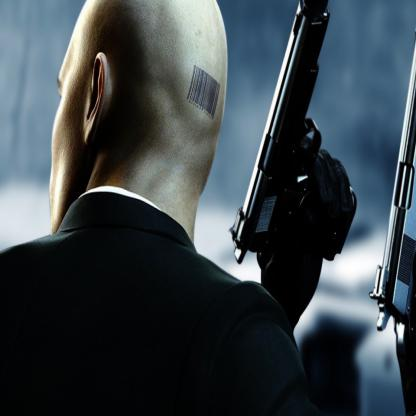gun: (225, 0, 383, 267), (368, 0, 415, 358)
